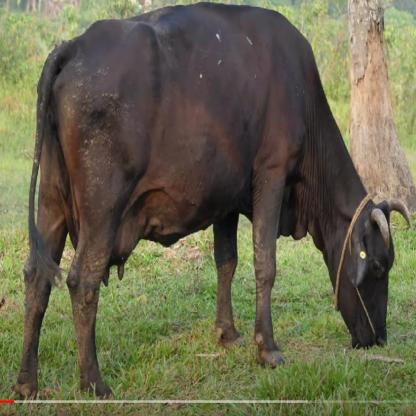cow: (13, 2, 412, 403)
